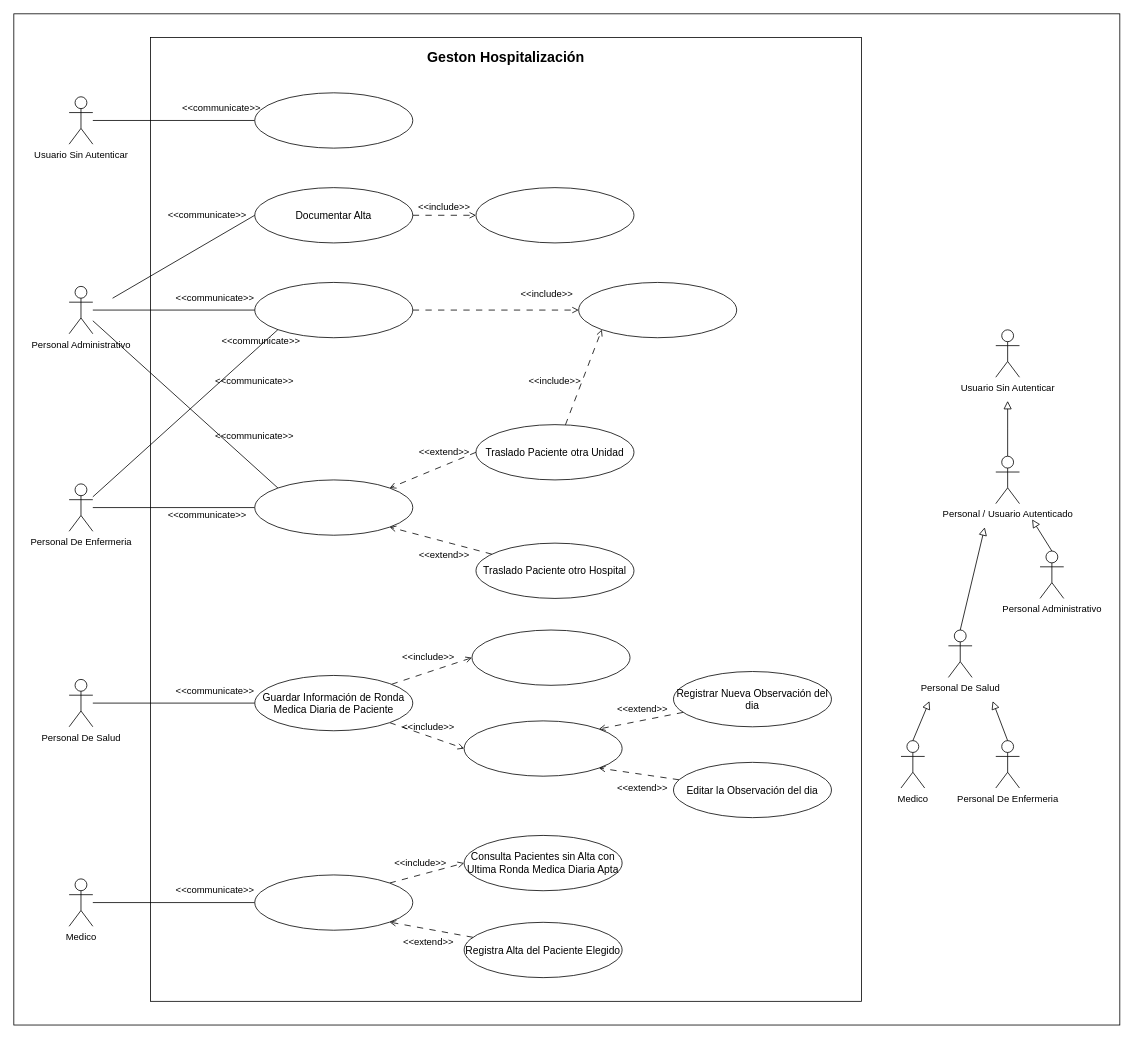
The diagram is 1134 pixels wide and 1039 high, and some of its shapes have lost their labels. The box of each missing label's shape, as (x1, y1, x2, y2) in pixels:
Asignar Paciente: (254, 282, 413, 338)
Confirmar Evaluación Final: (254, 874, 413, 930)
Consultar Alta del Paciente Elegido: (475, 187, 634, 243)
Consultar Espacio de la Unidad/Habitación: (578, 282, 737, 338)
Consultar Pacientes Ingresados: (471, 629, 630, 685)
Iniciar Sesión: (254, 92, 413, 148)
Registrar Observación del dia: (463, 720, 622, 776)
Traslado Paciente: (254, 479, 413, 535)
